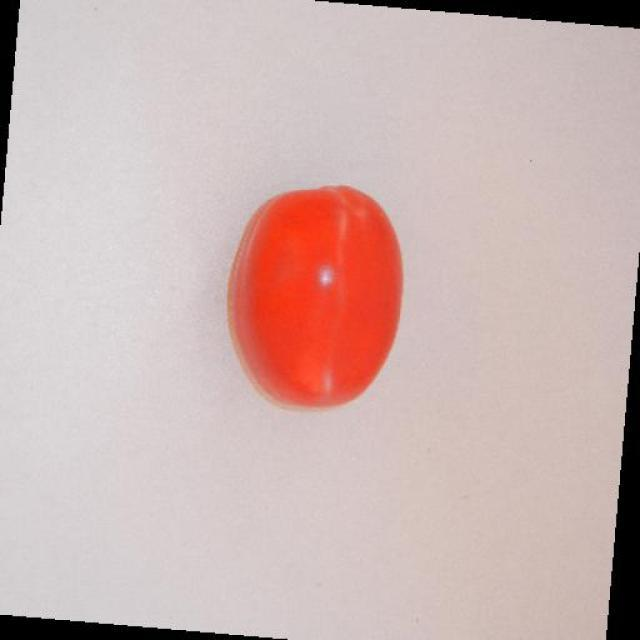Fresh Tomato: (205, 175, 433, 424)
